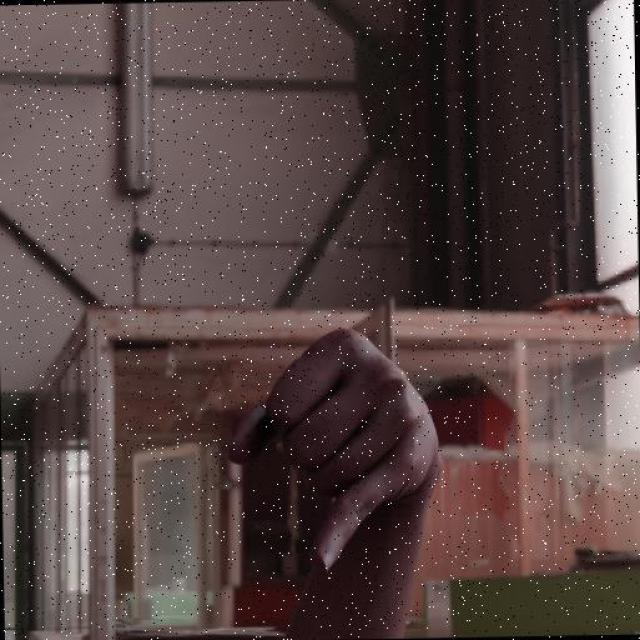J: (194, 292, 465, 638)
